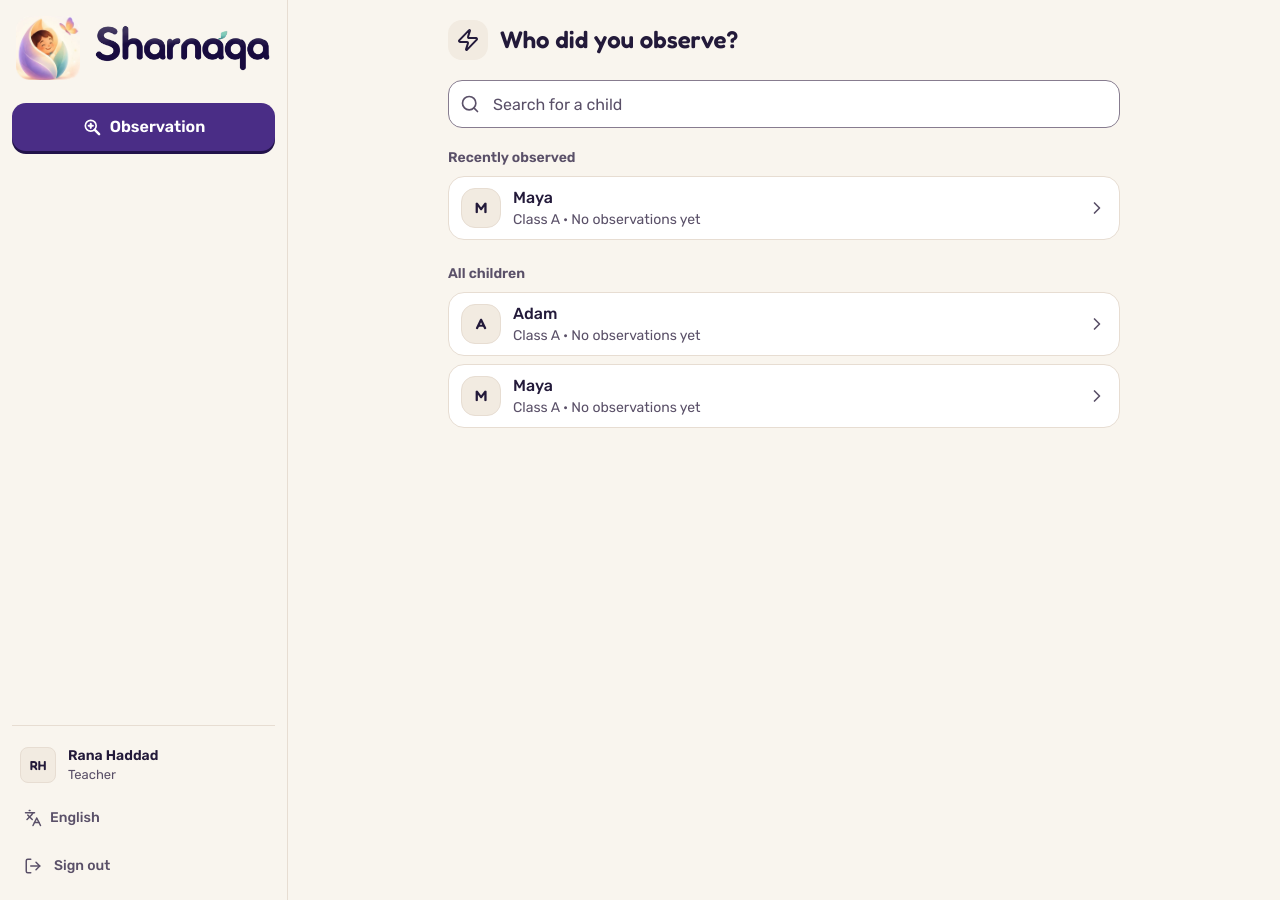
/observe child picker › lists recent children first, filters by search and links to the form
Type "ada" into the search field labelled "Search for a child".
click(784, 104); type("ada")  # box [448,80,1120,128]
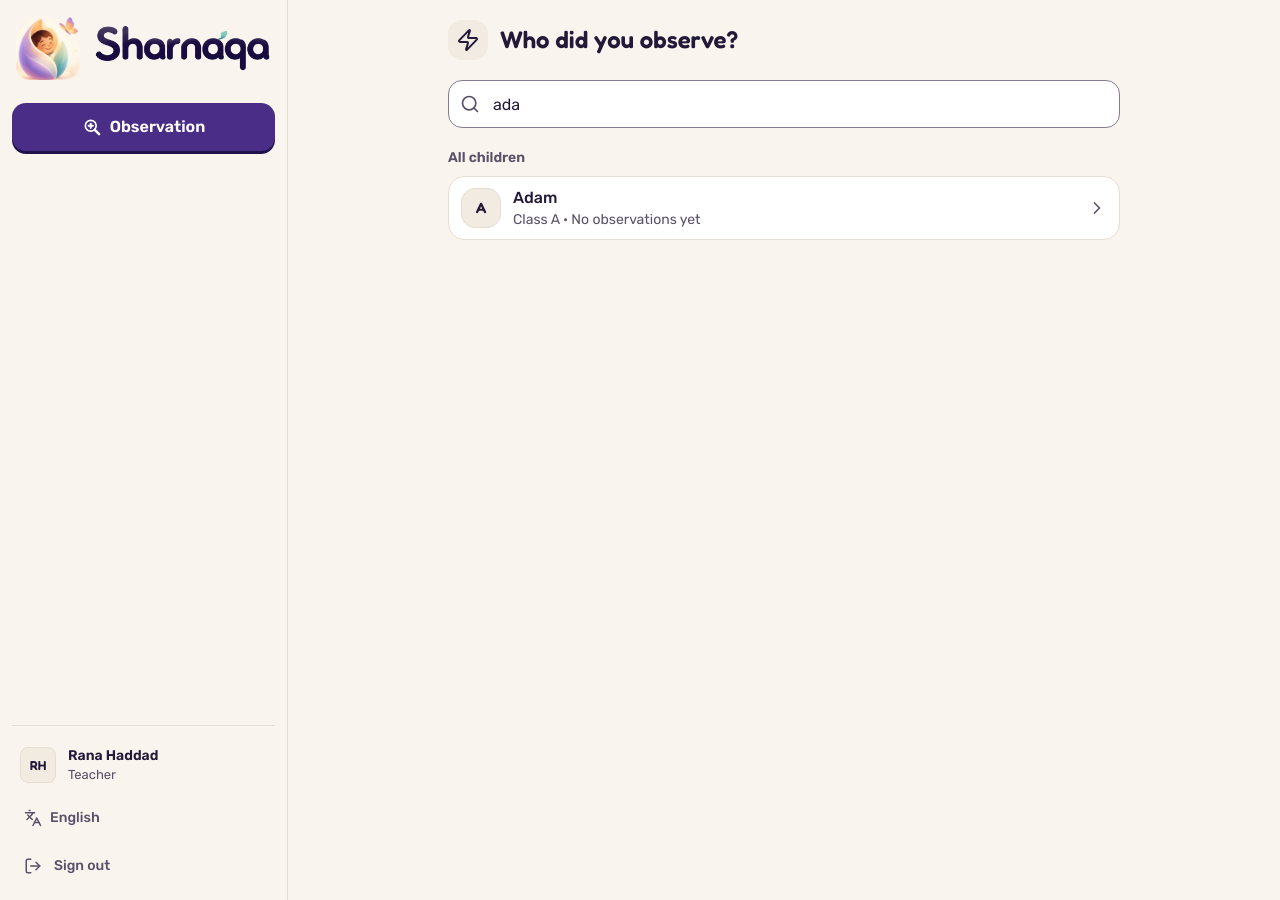
Result: the heading "Recently observed" is gone
